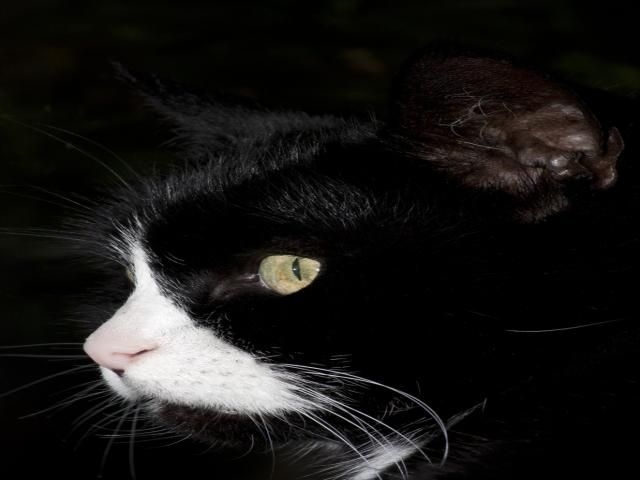Cat: (0, 55, 639, 479)
